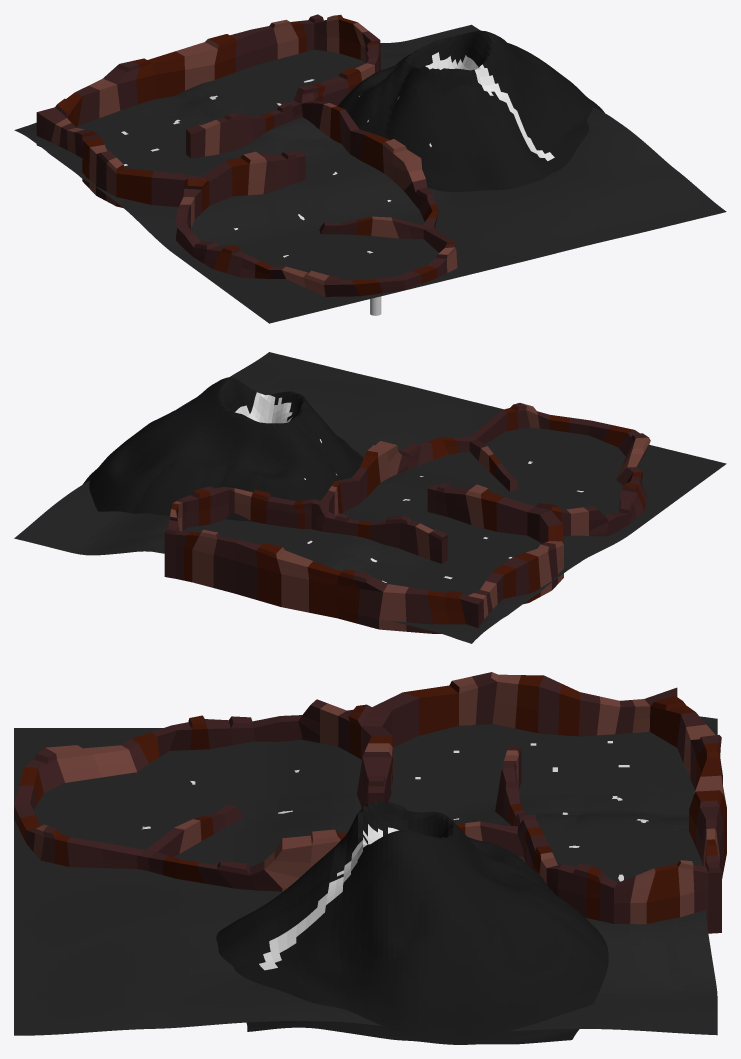
The model's file is FIRElevel.fbx.
The picture shows the model from 3 angles, top to bottom: view 1: azimuth 30°, elevation 25°; view 2: azimuth 150°, elevation 25°; view 3: azimuth 270°, elevation 25°; orthographic projection. The views are drawn at different scales.
Parts seen in each view (by area): view 1: Plane; view 2: Plane; view 3: Plane.
Boxes of the visible parts, left/top/right/bottom form: Plane: left=14, top=14, right=726, bottom=323; Plane: left=14, top=352, right=726, bottom=643; Plane: left=14, top=672, right=726, bottom=1044.
Bounding box in the file's own units: 4651 × 1387 × 4440.
